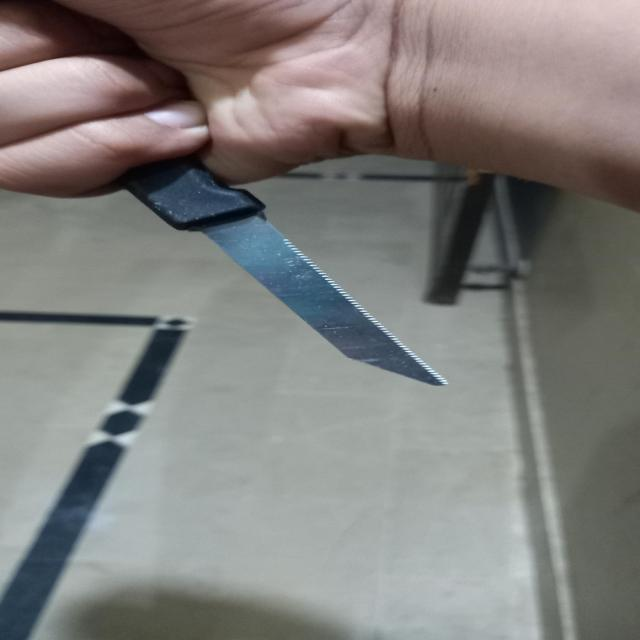Knife: (123, 160, 454, 386)
Person: (0, 0, 640, 214)
